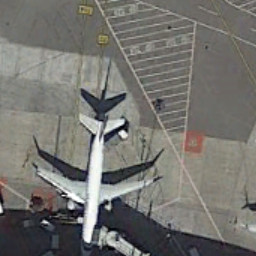Airplane: (31, 109, 163, 249)
